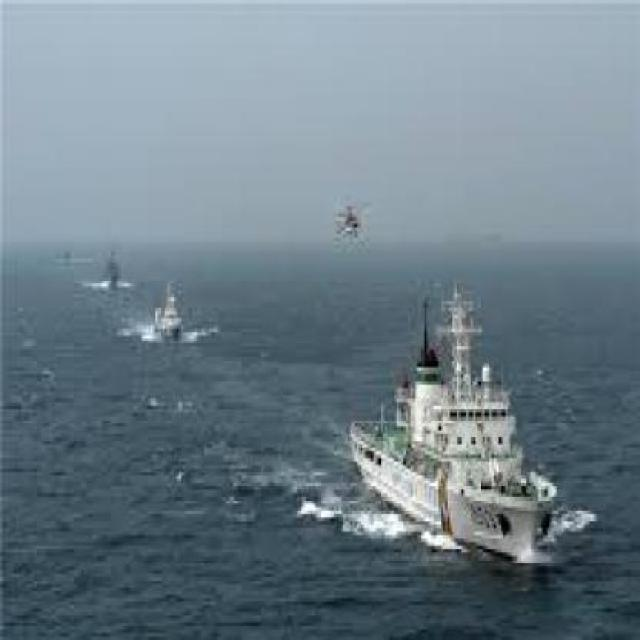fish-b: (338, 266, 569, 579)
